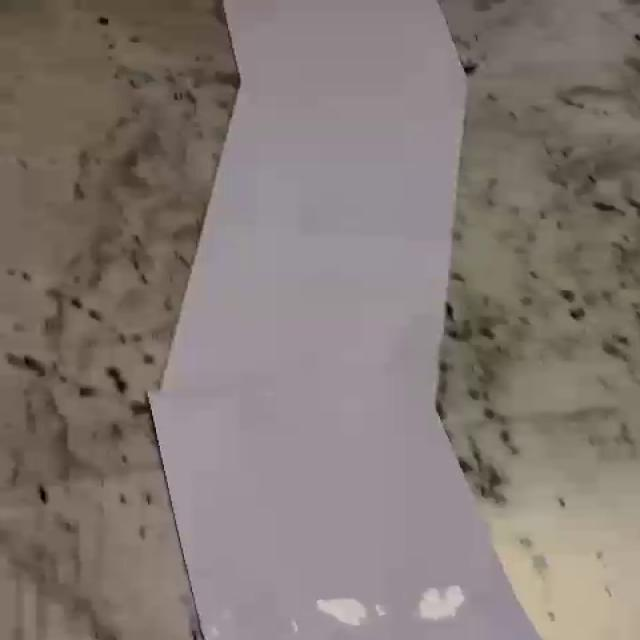road: (149, 0, 540, 640)
